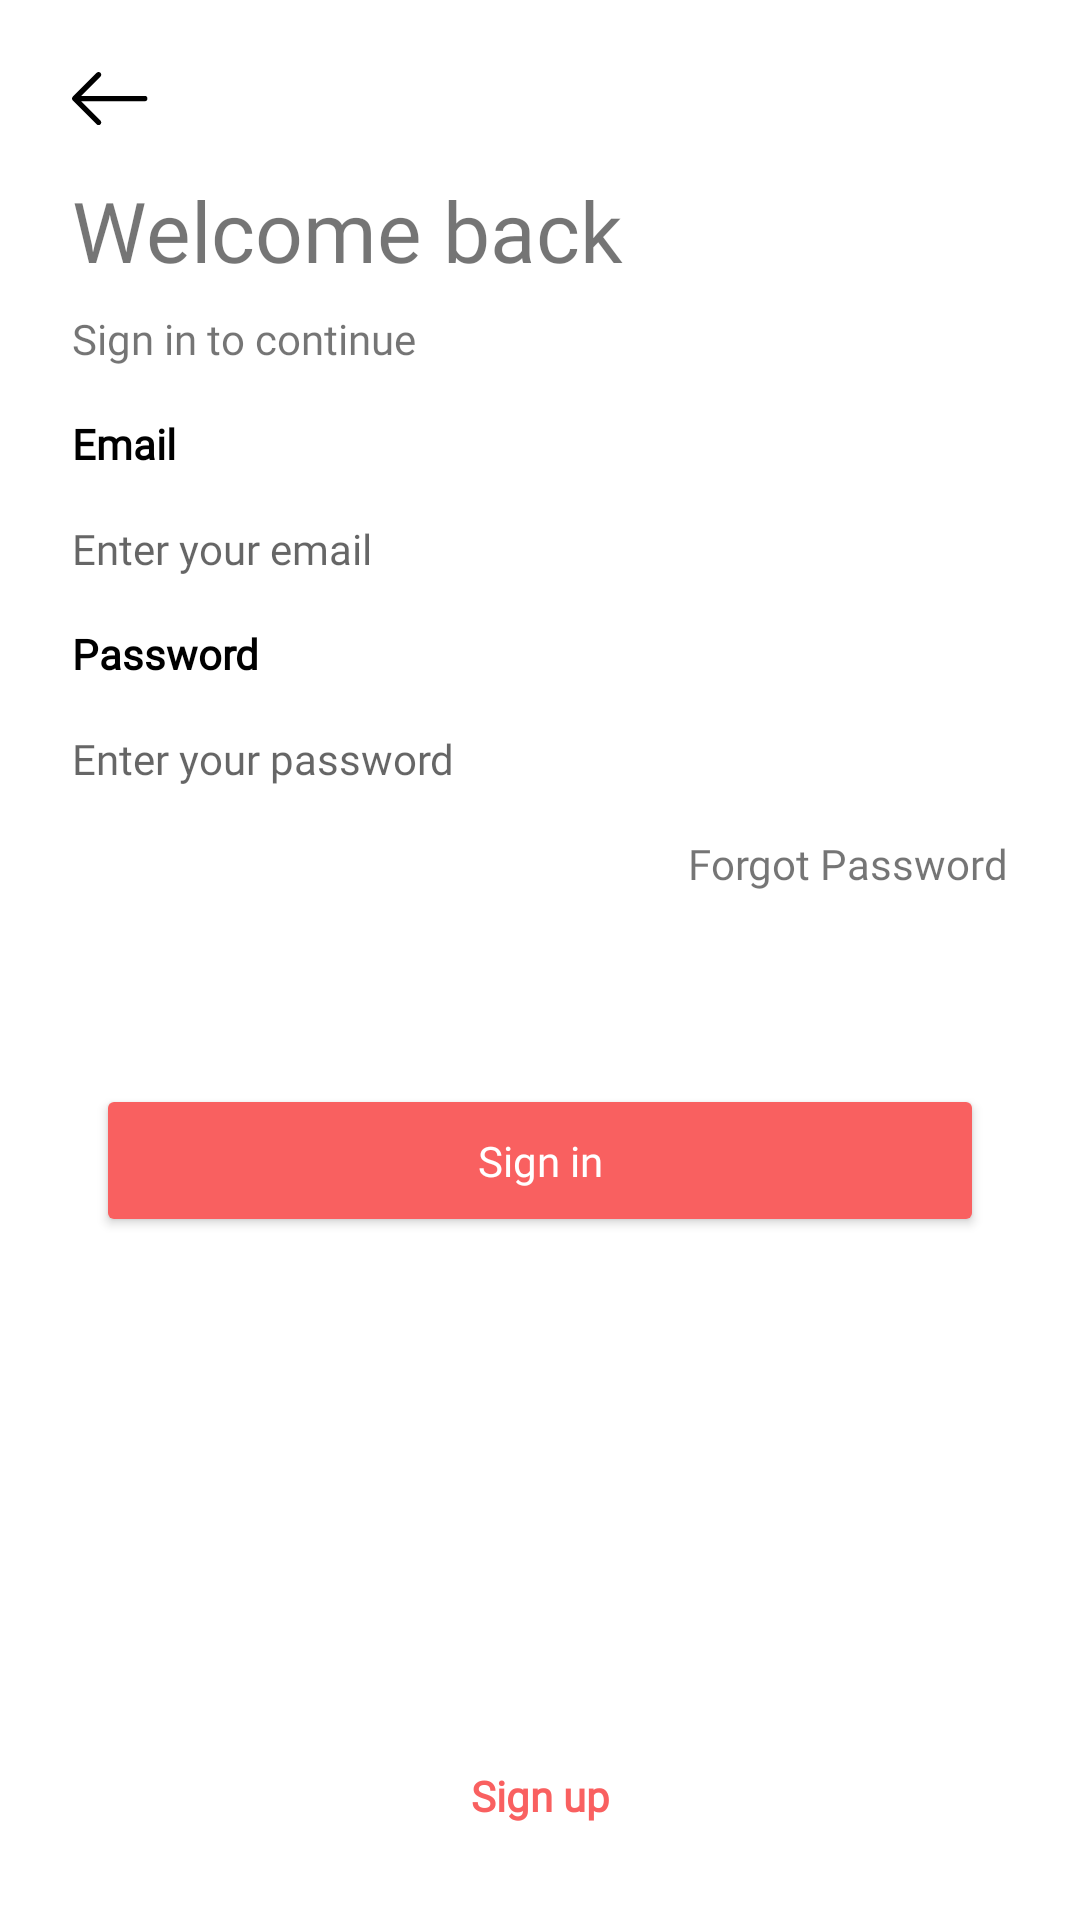

Locate icon controls on the screen. Image size 1080x1920, boxes as bbox=(x1, y1, x2, y2).
back arrow: bbox=(72, 72, 148, 125)
